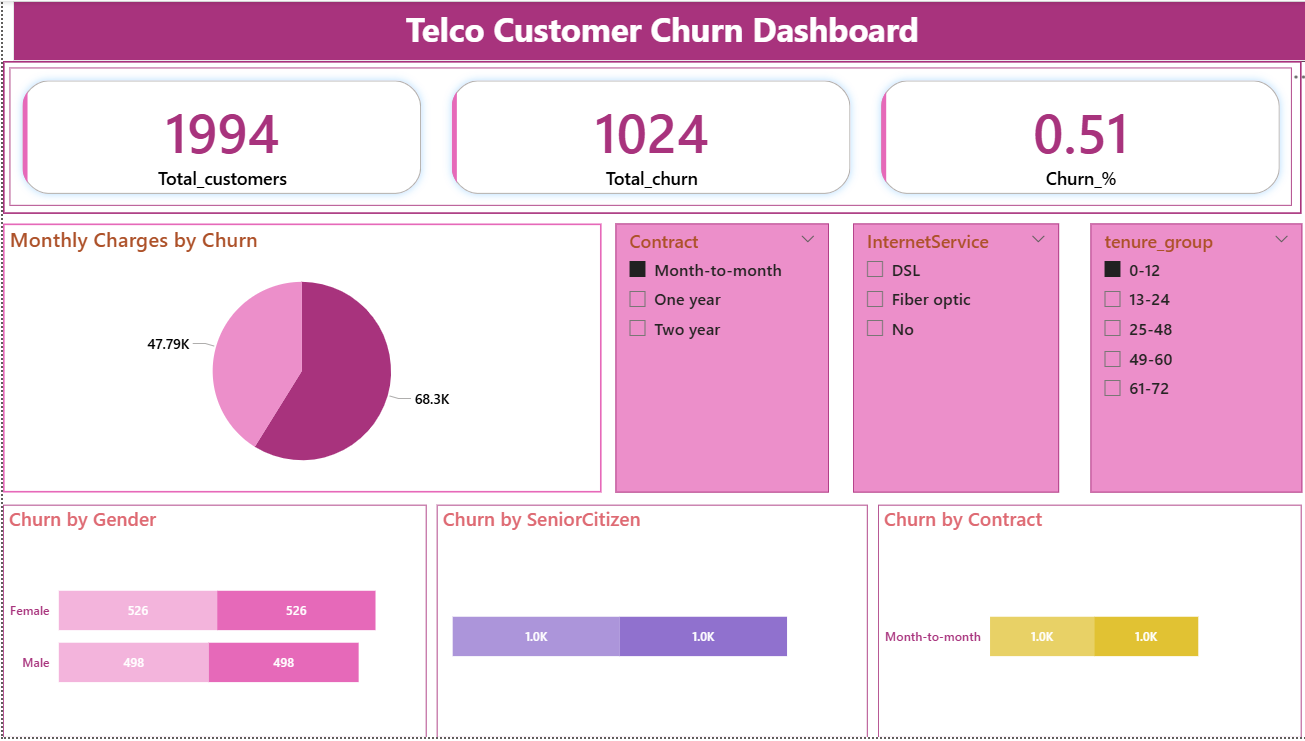

This screenshot's page, from the dashboard's own definition file:
{"tool":"powerbi","page":{"name":"Page 1","canvas":[1280,720],"ordinal":0},"visuals":[{"type":"textbox","box":[9.6,0,1270.7,59],"z":0},{"type":"cardVisual","fields":{"Data":["cleaned_customer_churn.Total_customers","cleaned_customer_churn.Total_churn","cleaned_customer_churn.Churn_%"]},"box":[0,59,1270.7,149.6],"z":1},{"type":"barChart","title":"Churn by Gender","fields":{"Category":["cleaned_customer_churn.gender"],"Series":["cleaned_customer_churn.Churn"],"Y":["cleaned_customer_churn.Total_churn"]},"box":[0,492.6,414.4,227.8],"z":2},{"type":"barChart","title":"Churn by SeniorCitizen","fields":{"Series":["cleaned_customer_churn.Churn"],"Y":["cleaned_customer_churn.Total_churn"],"Category":["cleaned_customer_churn.SeniorCitizen"]},"box":[424,492.6,421.3,227.8],"z":3},{"type":"barChart","title":"Churn by Contract","fields":{"Series":["cleaned_customer_churn.Churn"],"Y":["cleaned_customer_churn.Total_churn"],"Category":["cleaned_customer_churn.Contract"]},"box":[856.3,492.6,414.4,227.8],"z":4},{"type":"pieChart","title":"Monthly Charges by Churn","fields":{"Y":["Sum(cleaned_customer_churn.MonthlyCharges)"],"Category":["cleaned_customer_churn.Churn"]},"box":[0,218.2,585.9,263.5],"z":5},{"type":"slicer","fields":{"Values":["cleaned_customer_churn.Contract"]},"box":[599.7,218.2,208.6,263.5],"z":6},{"type":"slicer","fields":{"Values":["cleaned_customer_churn.InternetService"]},"box":[831.6,218.2,201.7,263.5],"z":7},{"type":"slicer","fields":{"Values":["cleaned_customer_churn.tenure_group"]},"box":[1063.5,218.2,207.2,263.5],"z":8}]}

Visuals, with their boxes in screenshot pixels (x1, y1, x2, y2), scaled from the page's 1280x720 canvas onto the 1305x741 screenshot:
textbox: <region>10, 0, 1304, 61</region>
cardVisual - cleaned_customer_churn.Total_customers x cleaned_customer_churn.Total_churn: <region>0, 61, 1296, 215</region>
"Churn by Gender" barChart: <region>0, 507, 422, 740</region>
"Churn by SeniorCitizen" barChart: <region>432, 507, 862, 740</region>
"Churn by Contract" barChart: <region>873, 507, 1296, 740</region>
"Monthly Charges by Churn" pieChart: <region>0, 225, 597, 496</region>
slicer - cleaned_customer_churn.Contract: <region>611, 225, 824, 496</region>
slicer - cleaned_customer_churn.InternetService: <region>848, 225, 1053, 496</region>
slicer - cleaned_customer_churn.tenure_group: <region>1084, 225, 1296, 496</region>
